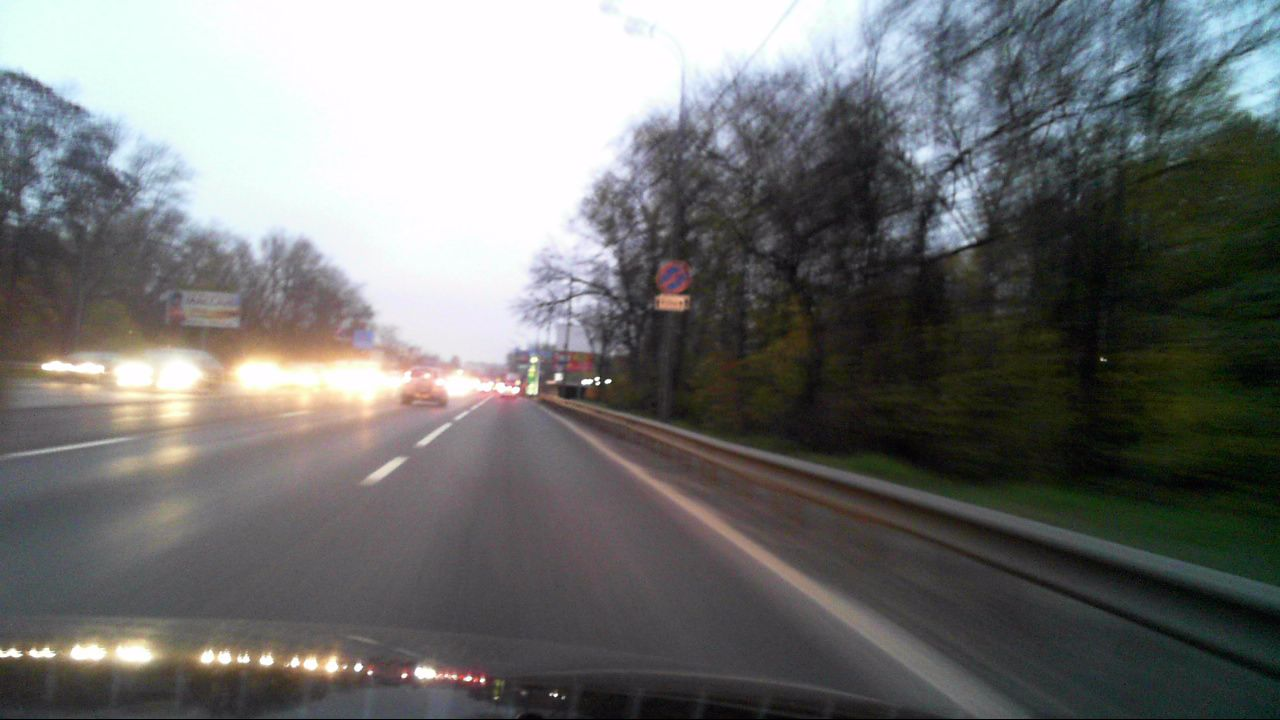No Parking: (658, 259, 690, 293)
